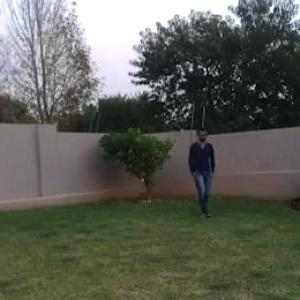follow: (187, 120, 220, 223)
